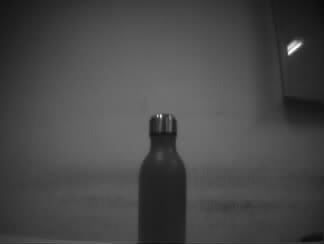Bottle: (136, 112, 189, 244)
